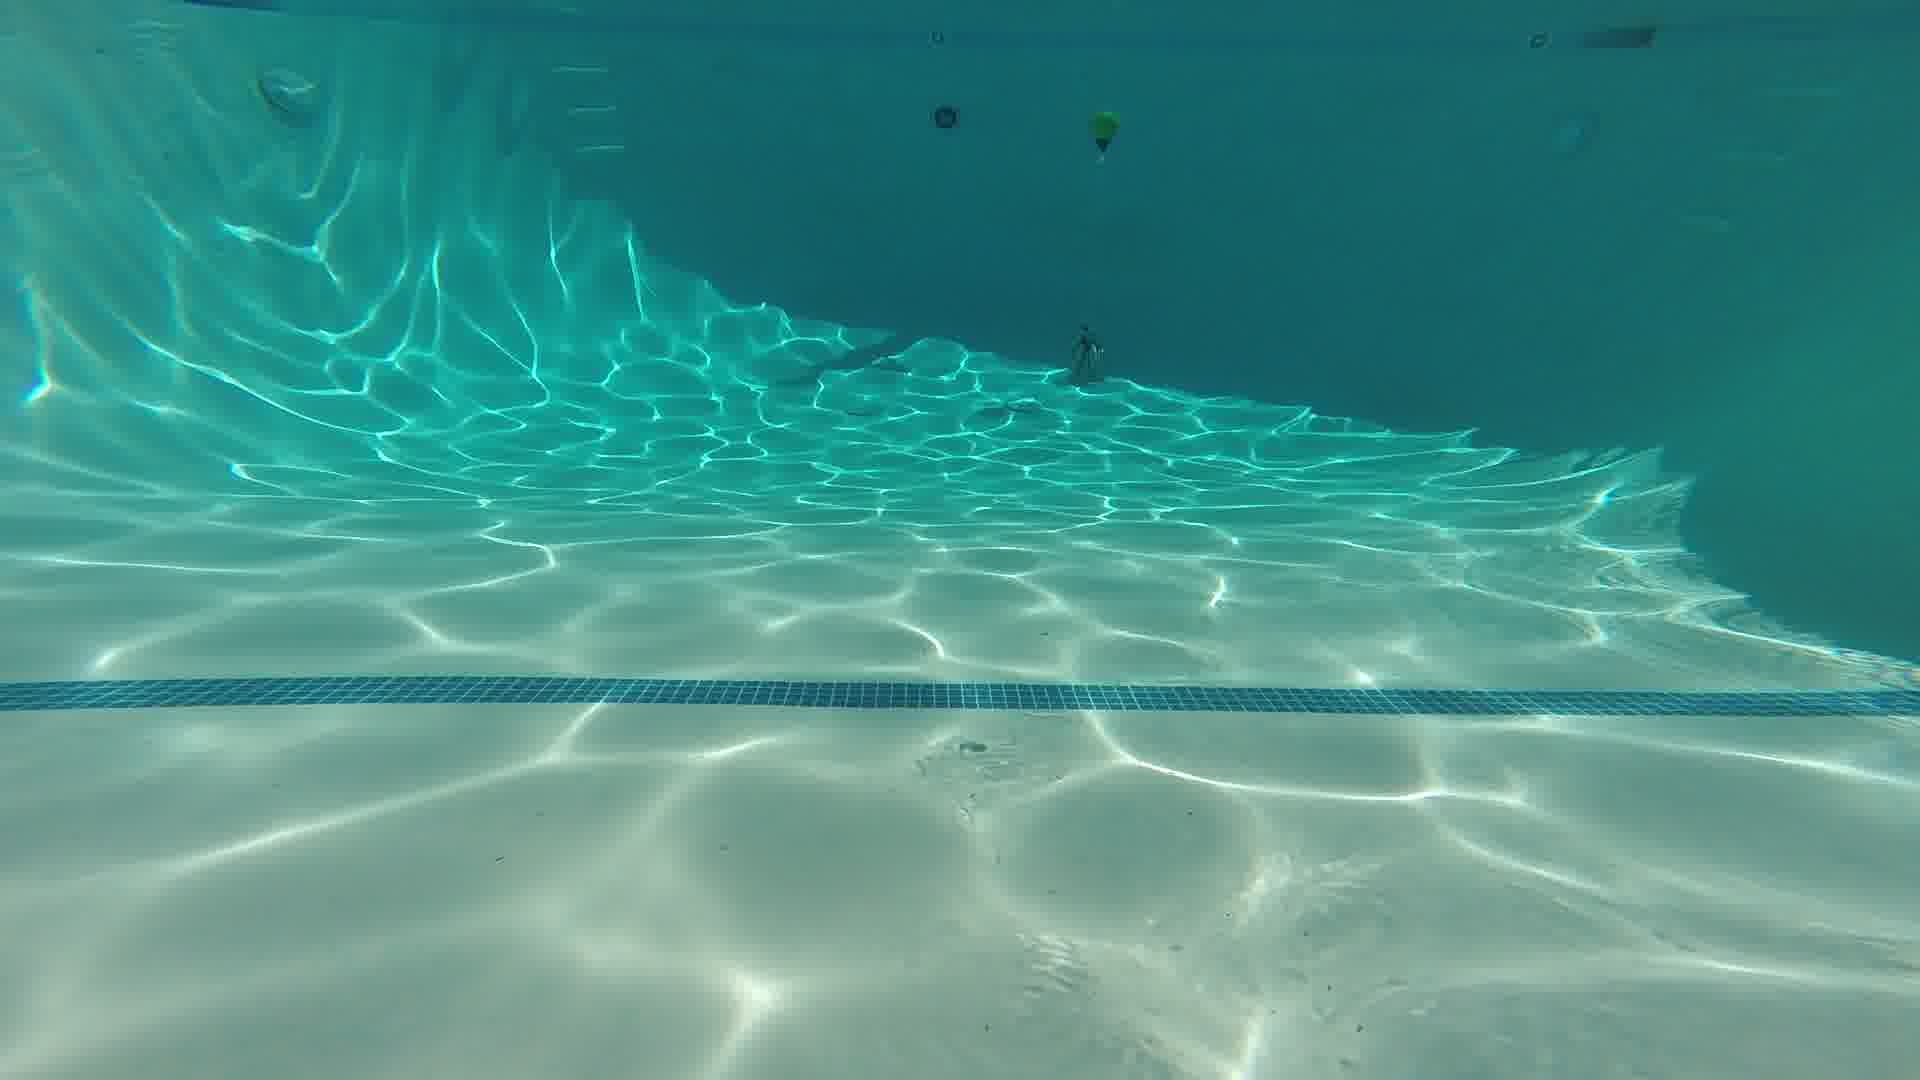yellow_buoy: (1080, 107, 1120, 174)
